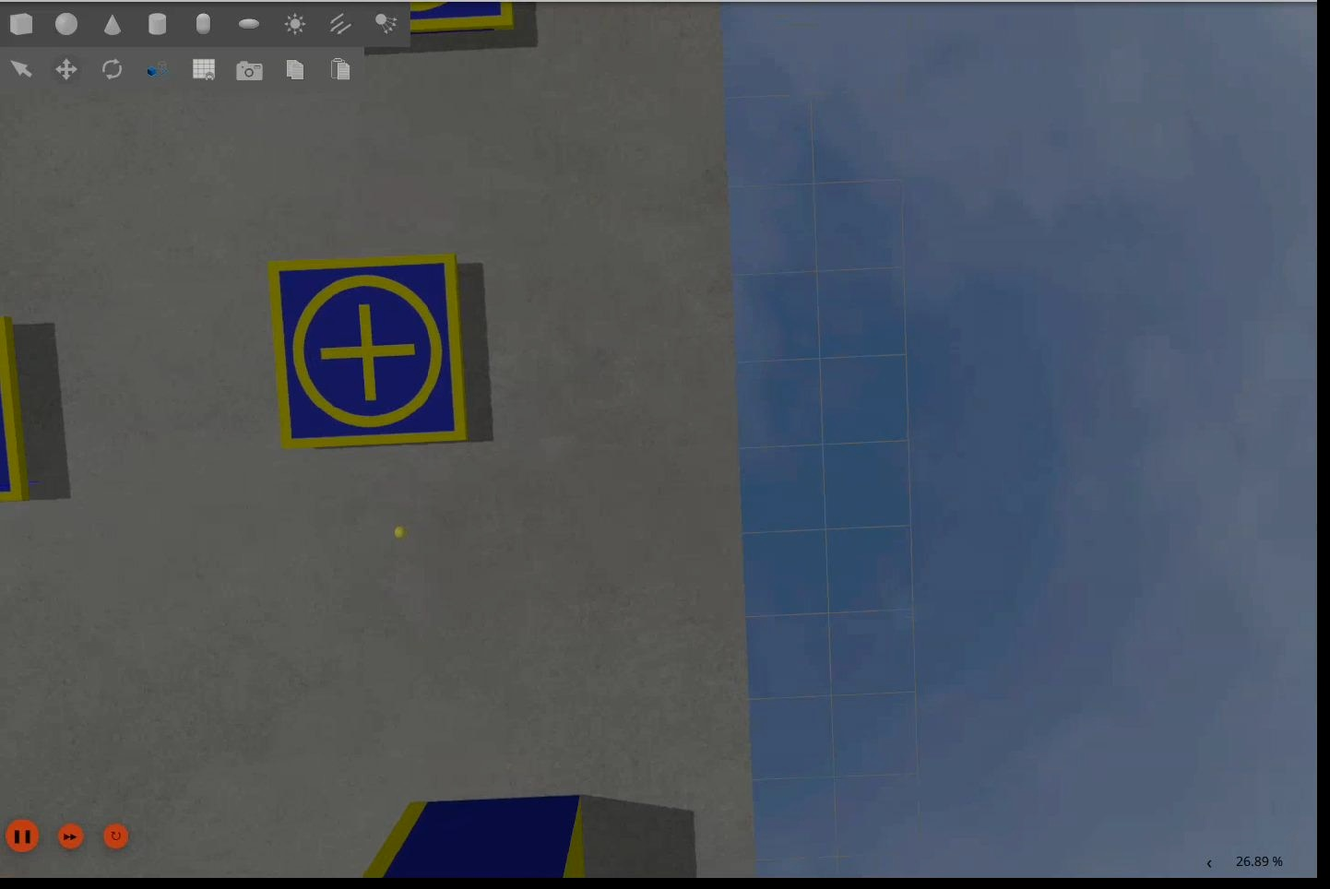small_base: (267, 251, 473, 454)
